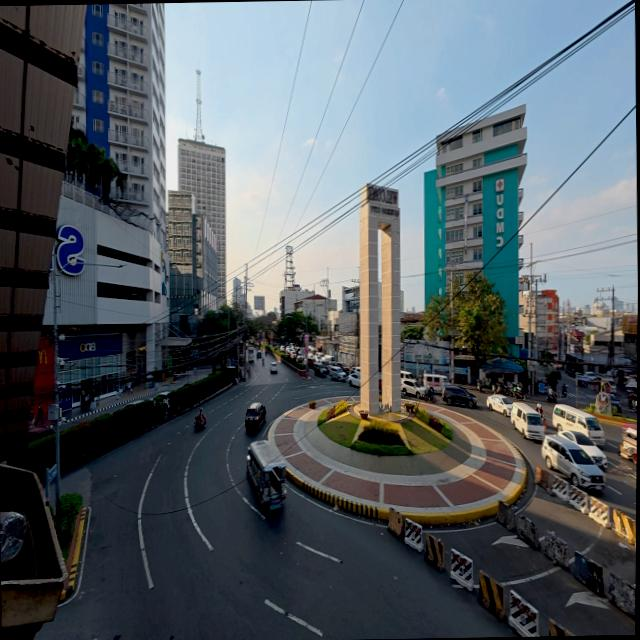Jeepneys: (246, 440, 285, 509), (619, 425, 636, 464)
car: (542, 435, 603, 489), (559, 431, 607, 469), (441, 385, 476, 408), (244, 403, 265, 431), (486, 395, 511, 416), (401, 379, 424, 398), (152, 391, 169, 409), (328, 366, 345, 381), (347, 370, 361, 388), (123, 398, 144, 408), (312, 362, 325, 376), (608, 394, 619, 410), (335, 362, 348, 374), (320, 360, 330, 373), (583, 372, 596, 381), (269, 361, 277, 374), (349, 367, 359, 376), (306, 357, 313, 368), (377, 376, 381, 393), (256, 351, 260, 359), (633, 401, 636, 411), (279, 345, 283, 352)
motorcycle: (193, 415, 206, 430), (423, 387, 435, 403), (477, 380, 488, 392), (546, 389, 556, 402), (513, 388, 523, 400), (561, 386, 566, 398), (261, 359, 263, 365)
vans: (552, 405, 605, 446), (511, 403, 544, 441), (422, 374, 448, 392), (399, 370, 414, 381)
